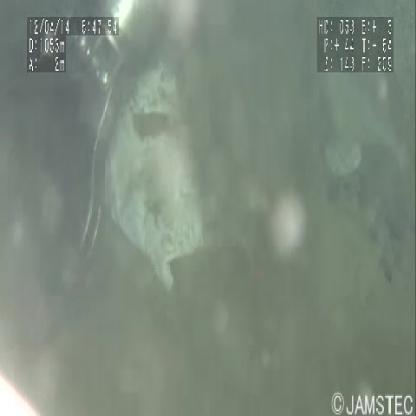Rác: (98, 68, 214, 298)
